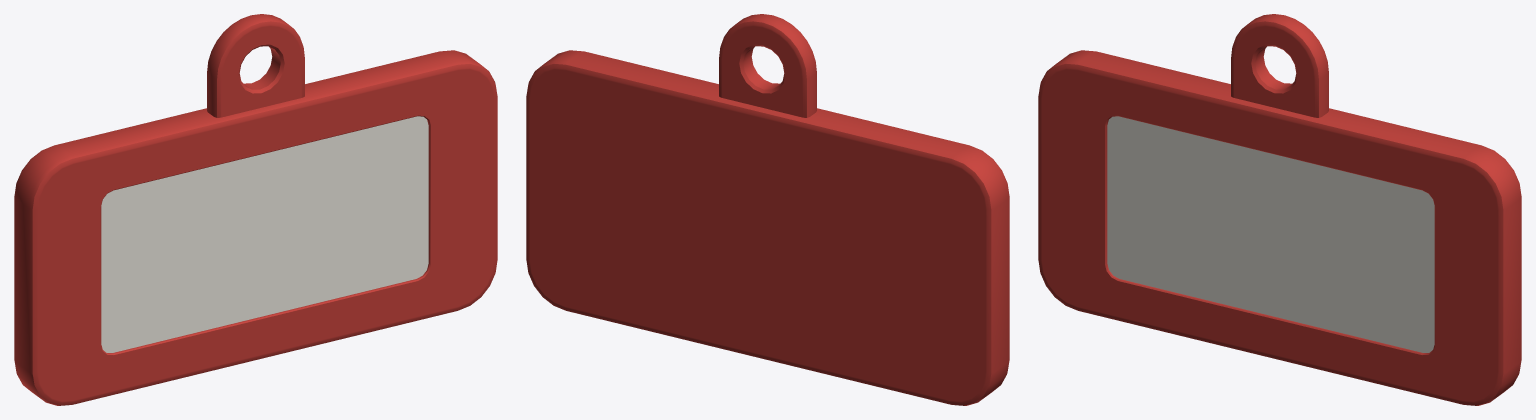
The model's file is Kit_KeyTag_Rect.fbx.
The picture shows the model from 3 angles, left to right: view 1: azimuth 30°, elevation 25°; view 2: azimuth 150°, elevation 25°; view 3: azimuth 330°, elevation 25°; orthographic projection.
Parts seen in each view (by area): view 1: Kit_KeyTag_Rect_LOD0; view 2: Kit_KeyTag_Rect_LOD0; view 3: Kit_KeyTag_Rect_LOD0.
Boxes of the visible parts, <box> form: Kit_KeyTag_Rect_LOD0: <box>14,14,497,405</box>; Kit_KeyTag_Rect_LOD0: <box>526,14,1009,405</box>; Kit_KeyTag_Rect_LOD0: <box>1038,14,1521,405</box>.
Size of what is drawn, in the model's own units: 0.057 by 0.039 by 0.0042.
